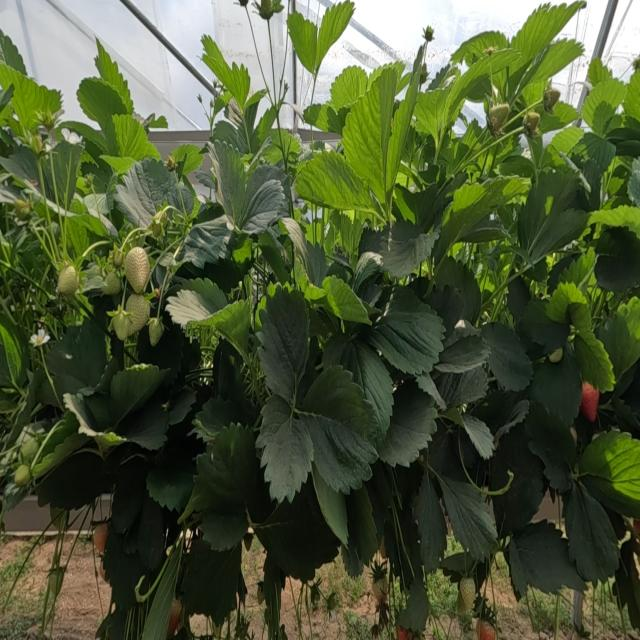Flowers: (29, 329, 50, 347), (422, 25, 434, 47), (41, 113, 54, 132), (484, 46, 496, 55)
Leaves: (300, 366, 377, 494), (189, 424, 262, 551), (255, 478, 340, 583), (508, 0, 585, 94), (323, 336, 393, 439), (343, 69, 397, 202), (383, 50, 424, 220), (368, 287, 445, 376), (256, 391, 314, 500), (505, 520, 586, 596), (64, 393, 169, 450), (257, 289, 309, 404), (563, 481, 619, 583), (181, 540, 246, 626), (146, 420, 205, 514), (440, 178, 509, 258), (114, 159, 194, 227), (580, 430, 640, 517), (447, 49, 521, 119), (378, 380, 437, 467), (437, 475, 497, 560), (295, 151, 377, 213), (90, 364, 166, 427), (523, 404, 576, 492), (46, 319, 107, 395), (36, 451, 114, 510), (142, 533, 184, 639), (102, 523, 147, 609), (529, 354, 582, 427), (0, 66, 61, 129), (76, 76, 127, 150), (481, 322, 533, 391), (202, 37, 250, 111), (414, 469, 447, 572), (209, 140, 247, 229), (380, 222, 439, 279), (598, 299, 640, 379), (282, 217, 327, 289), (94, 38, 134, 114), (176, 215, 232, 268), (312, 465, 348, 544), (314, 0, 354, 70), (237, 179, 287, 234), (521, 299, 569, 354), (433, 325, 489, 372), (574, 329, 615, 392), (582, 79, 626, 136), (193, 396, 249, 440), (165, 289, 227, 328), (546, 283, 591, 332), (435, 367, 488, 408), (113, 114, 159, 161), (415, 87, 451, 145), (399, 569, 429, 632), (287, 11, 317, 73), (330, 66, 368, 110), (0, 146, 39, 185), (303, 102, 349, 133), (248, 165, 286, 199), (168, 388, 196, 426), (280, 182, 287, 210), (251, 91, 265, 100)
Strawberries: (124, 247, 150, 294), (126, 294, 149, 334), (580, 382, 599, 421), (488, 103, 510, 136), (456, 578, 475, 616), (254, 0, 284, 23), (58, 265, 79, 295), (111, 308, 130, 340), (167, 599, 182, 637), (49, 565, 66, 597), (102, 268, 121, 295), (372, 575, 388, 607), (543, 87, 561, 113), (93, 523, 107, 553), (149, 317, 163, 346), (476, 620, 496, 639), (523, 111, 540, 133), (14, 465, 30, 487), (14, 200, 30, 220), (398, 627, 408, 639)
